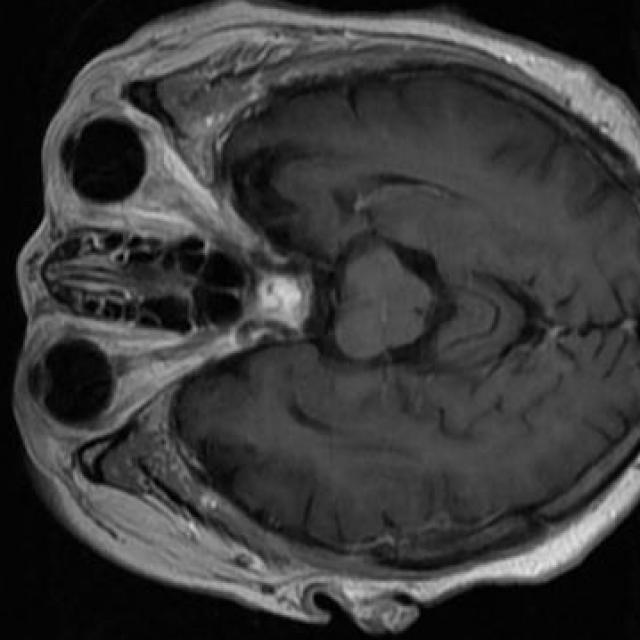pituitary: (255, 276, 308, 330)
